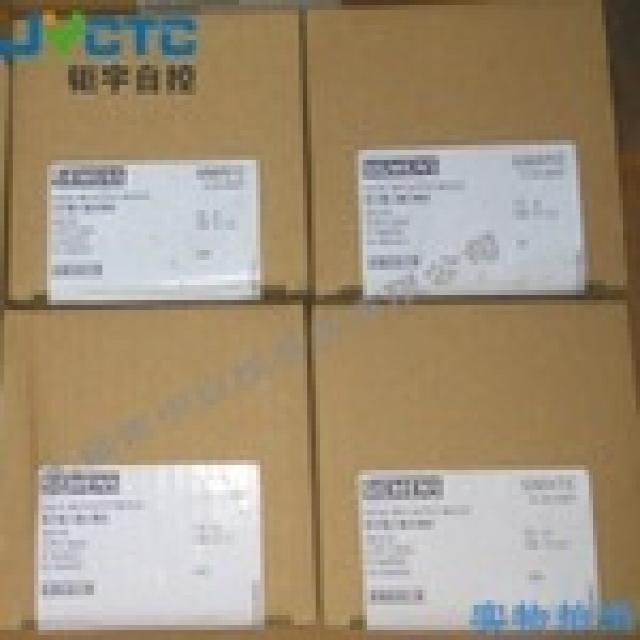box: (0, 299, 320, 635), (309, 302, 636, 630), (304, 3, 629, 298), (4, 6, 311, 307)
